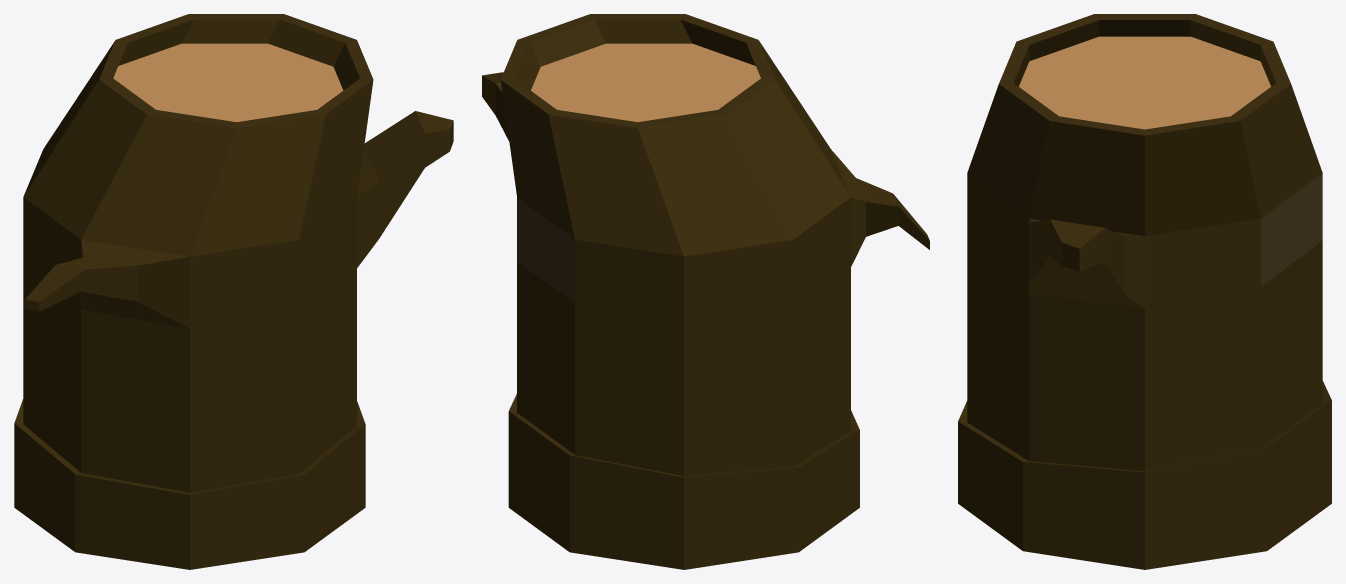
Rendered from stump002.fbx.
3 views of the same model, side by side, from view 1: azimuth 30°, elevation 25°; view 2: azimuth 150°, elevation 25°; view 3: azimuth 270°, elevation 25° (orthographic). The views are drawn at different scales.
Visible parts, largest first — view 1: stump_002; view 2: stump_002; view 3: stump_002.
Boxes of the visible parts, <box> form: stump_002: <box>14,14,453,569</box>; stump_002: <box>482,14,929,569</box>; stump_002: <box>958,14,1331,569</box>.
Size of the model in its own units: 4.01 by 2.78 by 3.62.
